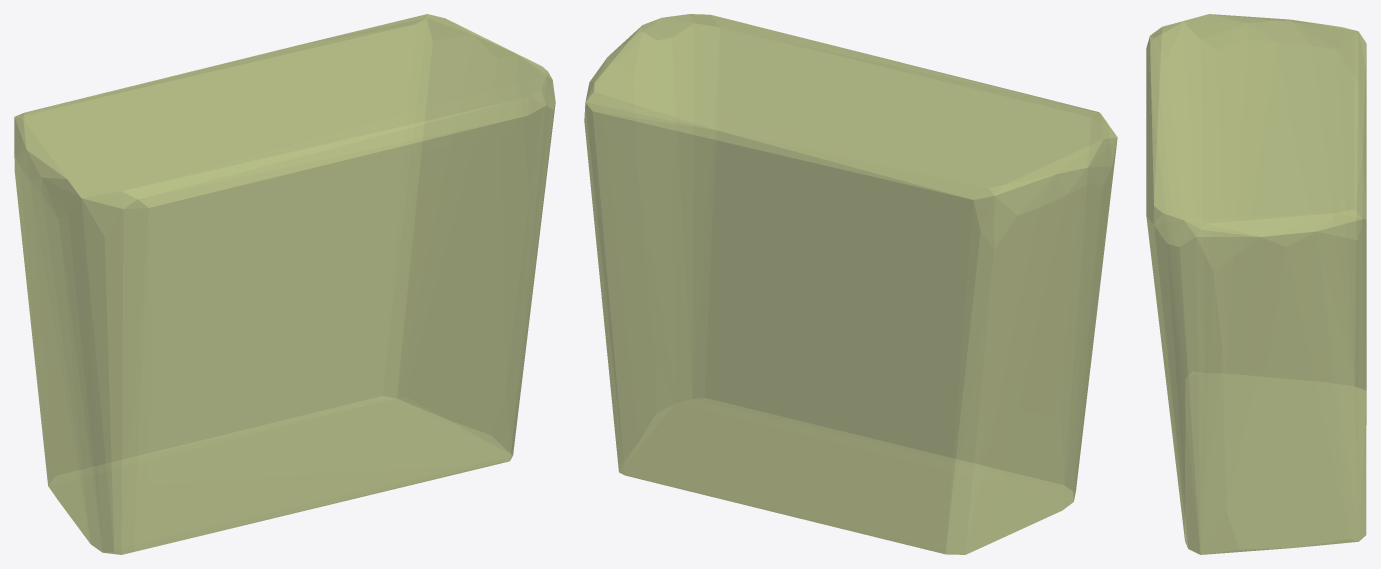
The picture shows the model from 3 angles, left to right: view 1: azimuth 30°, elevation 25°; view 2: azimuth 150°, elevation 25°; view 3: azimuth 270°, elevation 25°; orthographic projection. The views are drawn at different scales.
Parts seen in each view (by area): view 1: Shape_IndexedFaceSet.002_Shape_IndexedFaceSet.4756; view 2: Shape_IndexedFaceSet.002_Shape_IndexedFaceSet.4756; view 3: Shape_IndexedFaceSet.002_Shape_IndexedFaceSet.4756.
Boxes of the visible parts, x1,y1,x2,y2 form: Shape_IndexedFaceSet.002_Shape_IndexedFaceSet.4756: [14, 14, 555, 554]; Shape_IndexedFaceSet.002_Shape_IndexedFaceSet.4756: [584, 14, 1117, 554]; Shape_IndexedFaceSet.002_Shape_IndexedFaceSet.4756: [1146, 14, 1366, 554].
Bounding box in the file's own units: 0.9087 × 0.6838 × 0.3952.
